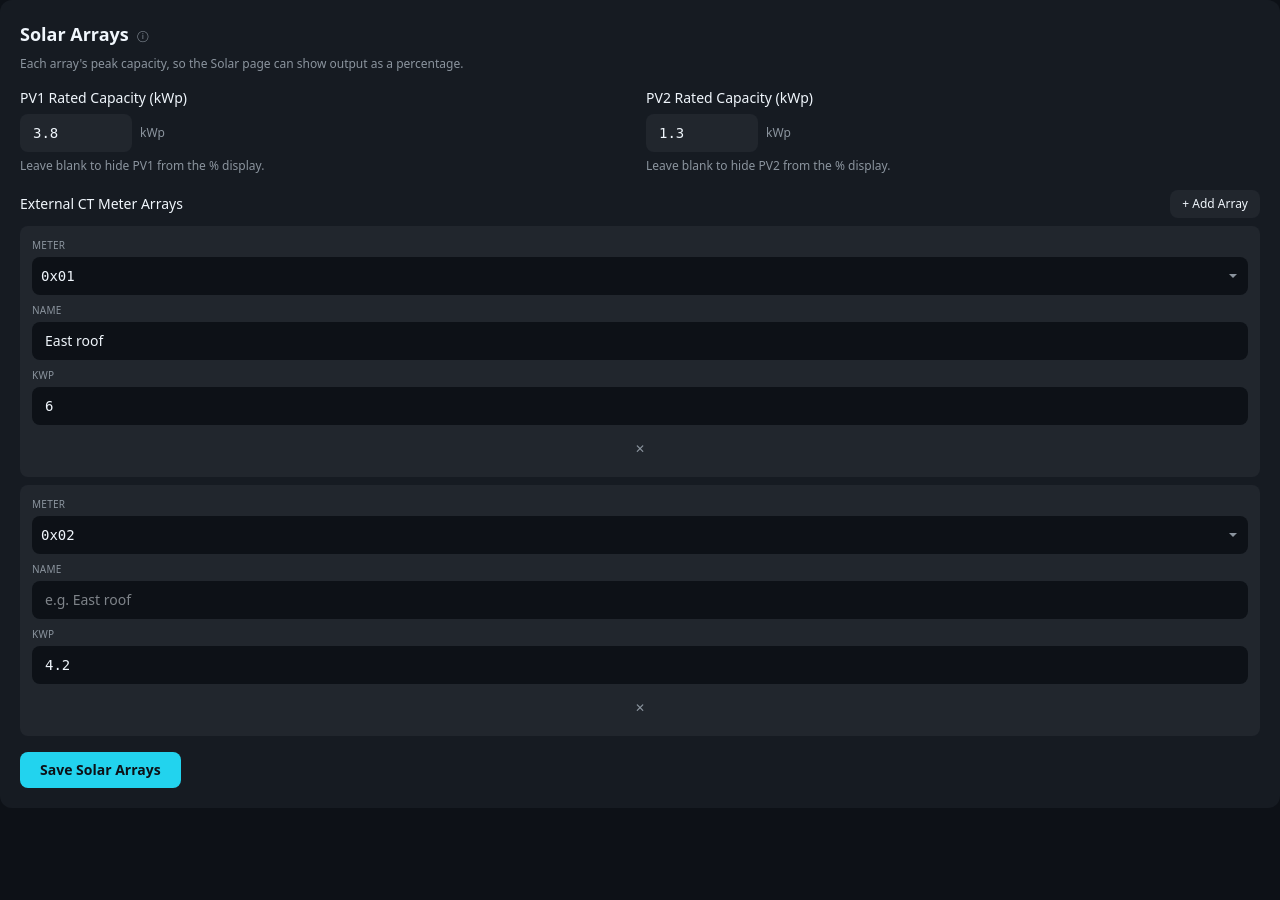
Test: <SolarArraysSection/> — Solar Arrays (issue #110) › CT array list › a new row defaults to the lowest unused meter address
Click the button with test id "solar-array-add".
click(1215, 204)  # box x1=1170 y1=190 x2=1260 y2=218
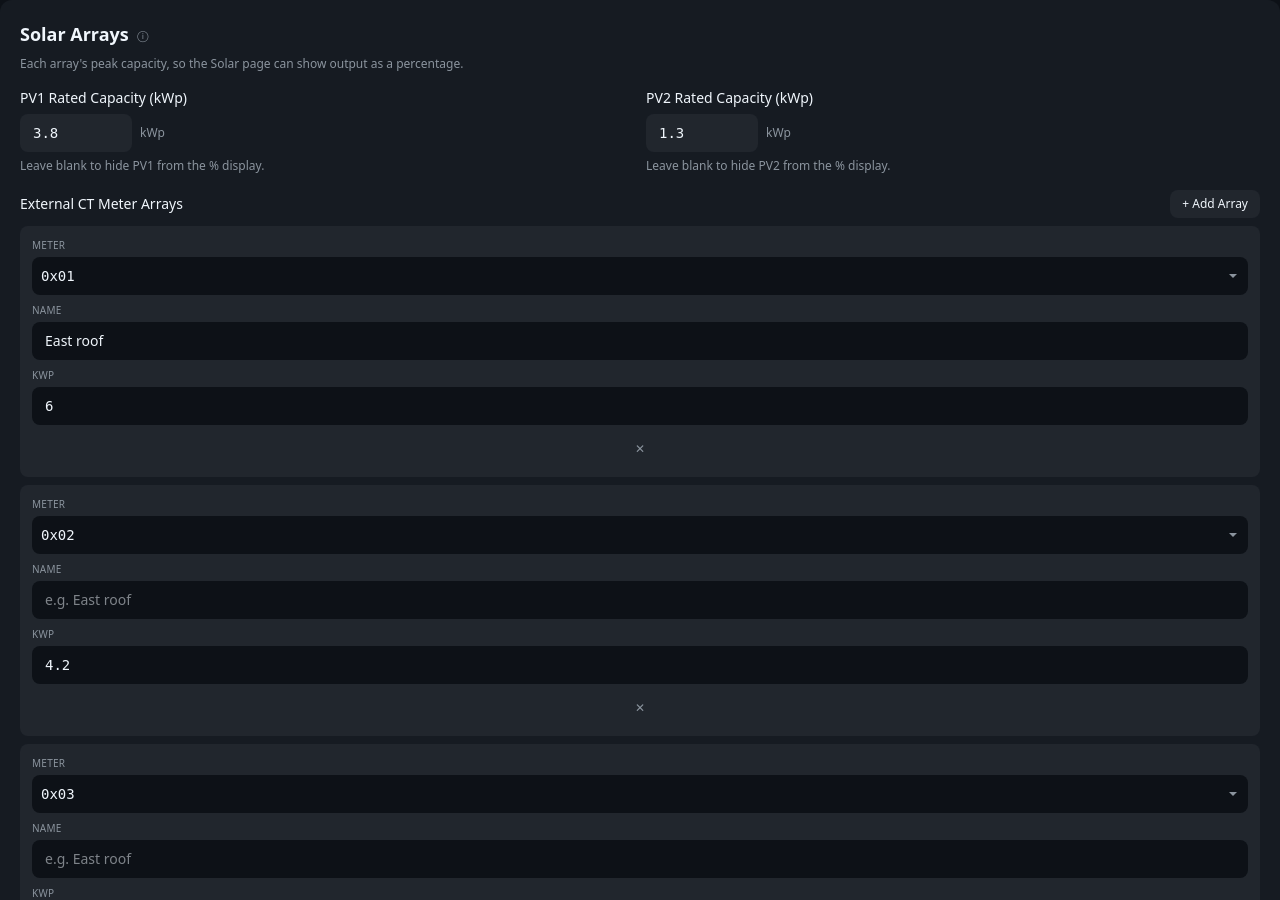
expect the 3rd dropdown with test id "solar-array-address" shows "0x03": met, box x1=32 y1=775 x2=1248 y2=813
